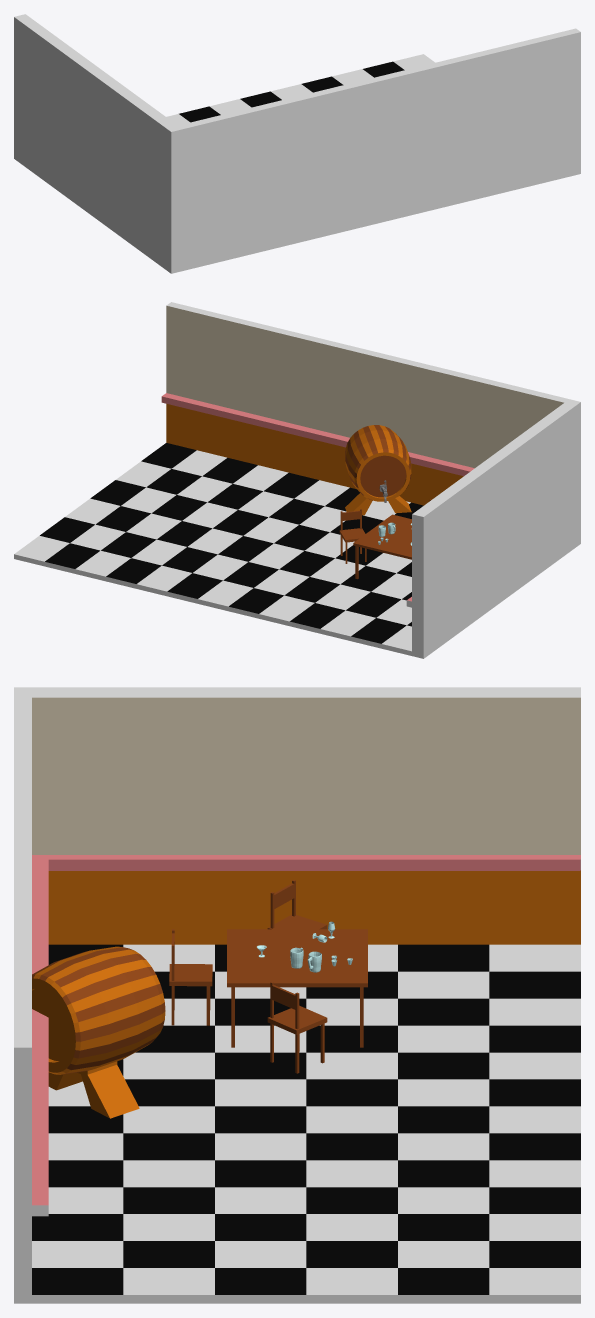
File: Inici_texturizat.fbx
The picture shows the model from 3 angles, top to bottom: view 1: azimuth 30°, elevation 25°; view 2: azimuth 150°, elevation 25°; view 3: azimuth 270°, elevation 25°; orthographic projection. The views are drawn at different scales.
Visible parts, largest first — view 1: Cube.002; view 2: Cube.002, Cylinder, Cube.001, Cube.003; view 3: Cube.002, Cylinder, Cube.001, Cube.003, Cube.005, Cube.004.
Part boxes in pixels (x1,y1,x2,y2): Cube.002: (14,14,580,273); Cube.002: (14,302,580,658); Cylinder: (345,425,411,515); Cube.001: (353,514,411,579); Cube.003: (339,509,366,563); Cube.002: (14,687,580,1303); Cylinder: (32,946,165,1118); Cube.001: (227,929,367,1047); Cube.003: (267,981,327,1073); Cube.005: (169,929,212,1025); Cube.004: (267,880,327,929).
Bounding box in the file's own units: 1828 × 605 × 1216.
